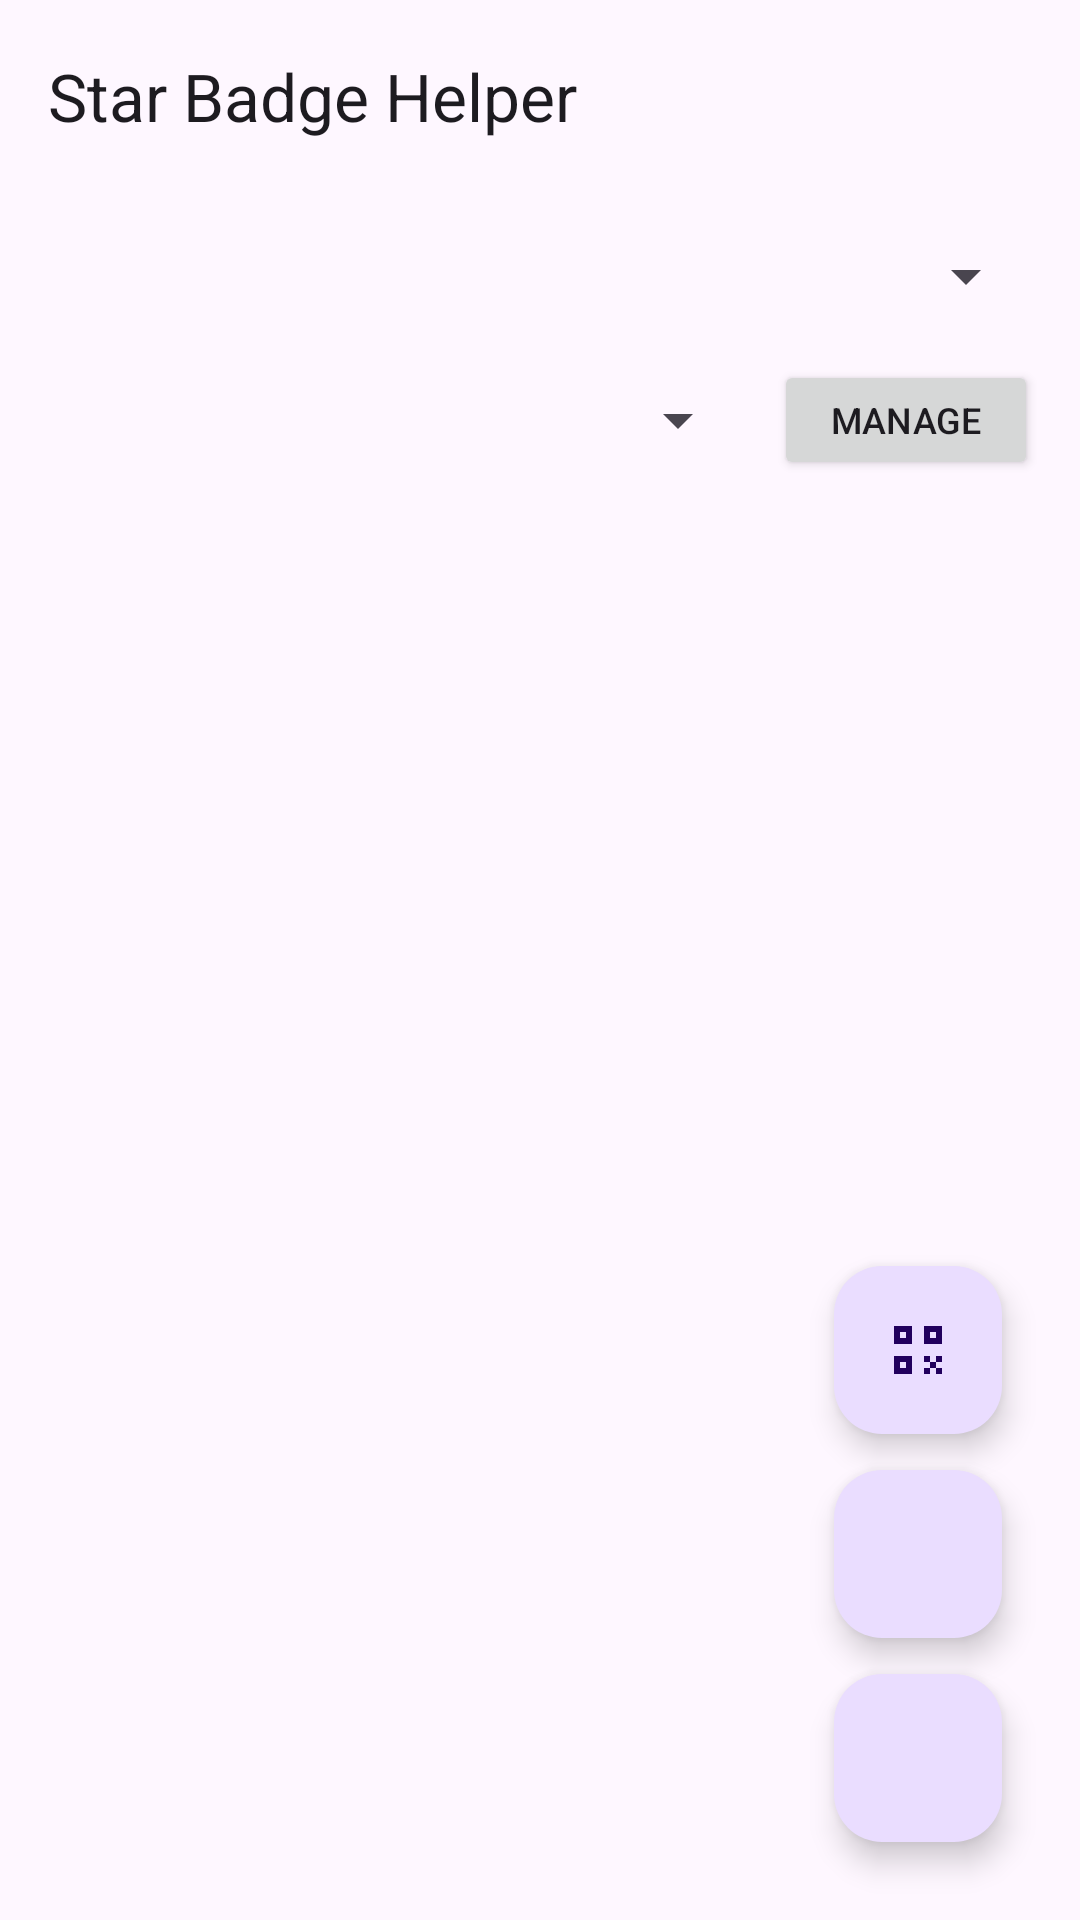

Named icons in this screenshot (1080 x 1920) and their centers, [x,y]:
Scan QR code: [918,1350]
